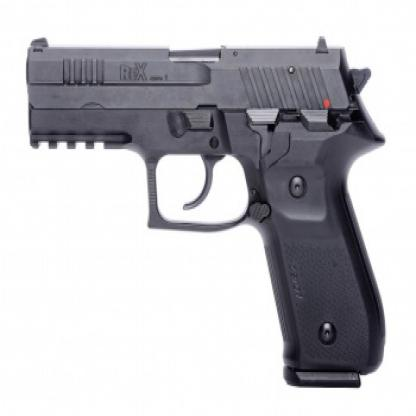Gun: (21, 30, 389, 386)
